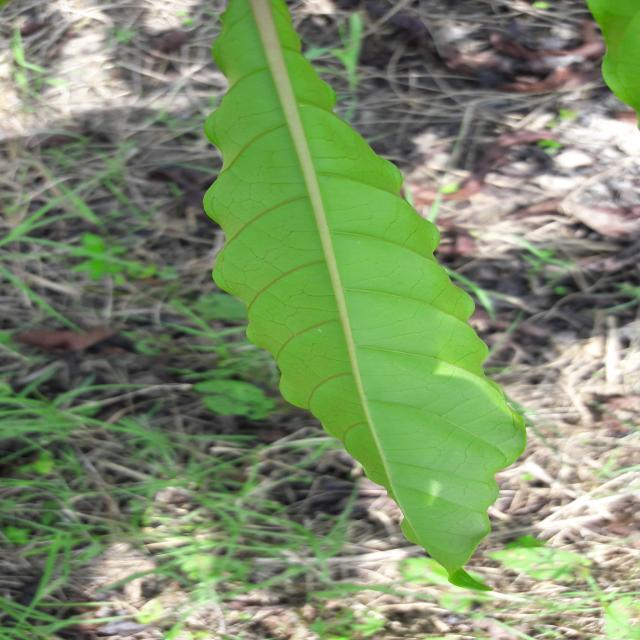Sanas: (202, 0, 531, 592)
